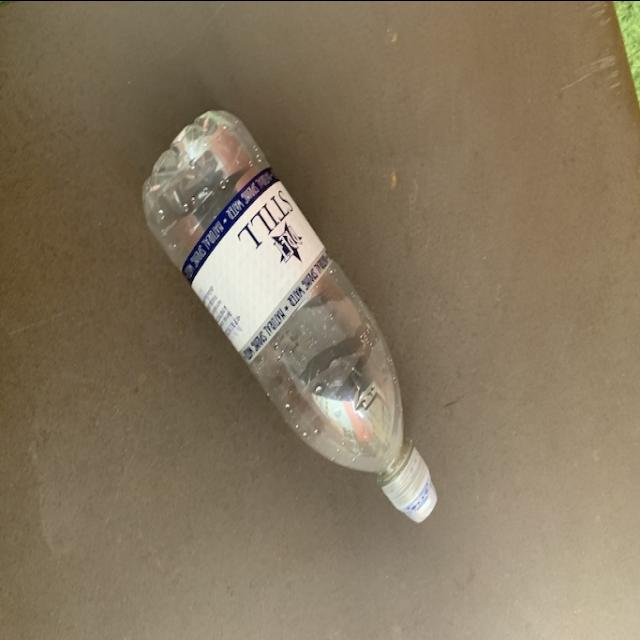litter: (142, 106, 440, 525)
